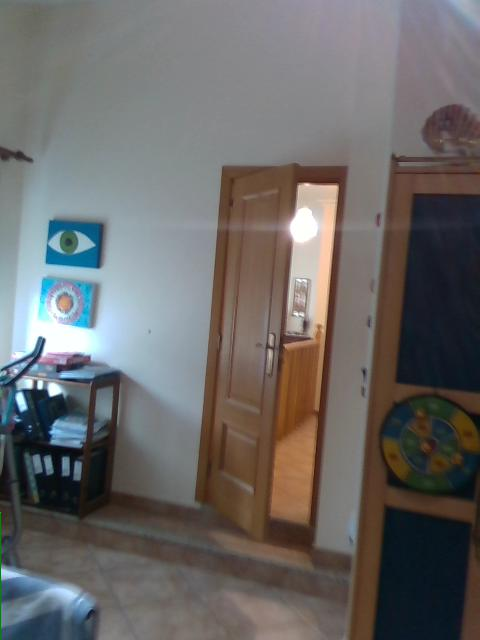semi_door: (192, 160, 351, 548)
